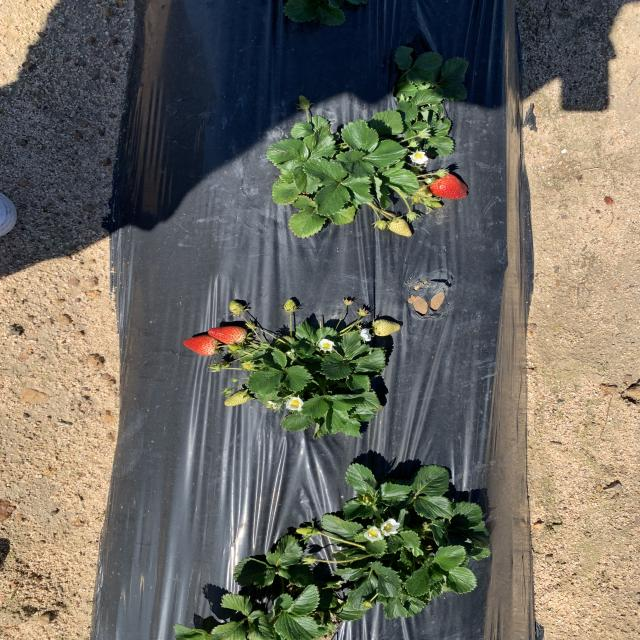unripe: (430, 172, 470, 199), (184, 334, 221, 356), (209, 325, 248, 343)
